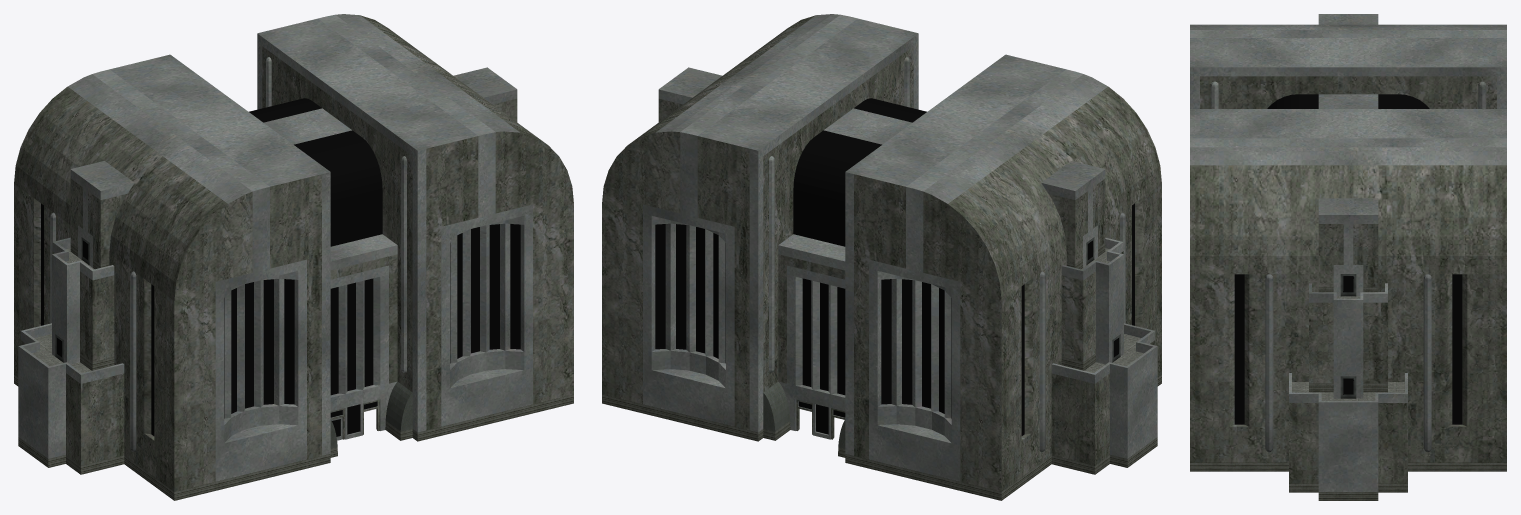
File: thm_corl_imprv_building_s02_r0_mesh_l0.fbx
3 views of the same model, side by side, from view 1: azimuth 30°, elevation 25°; view 2: azimuth 150°, elevation 25°; view 3: azimuth 270°, elevation 25° (orthographic).
Parts seen in each view (by area): view 1: mesh_node; view 2: mesh_node; view 3: mesh_node.
Part boxes in pixels (x1,y1,x2,y2): mesh_node: (14, 14, 573, 500); mesh_node: (602, 14, 1161, 500); mesh_node: (1190, 14, 1506, 500).
Bounding box in the file's own units: 60 × 32 × 32.
